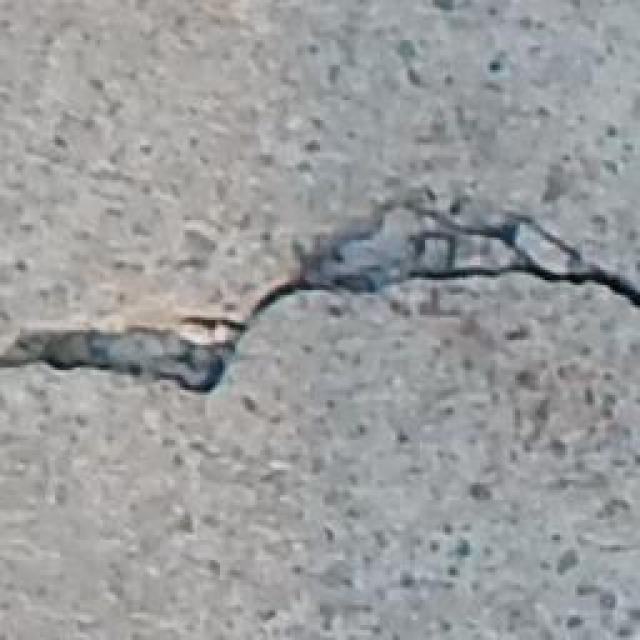concrete-crack: (0, 194, 639, 404)
